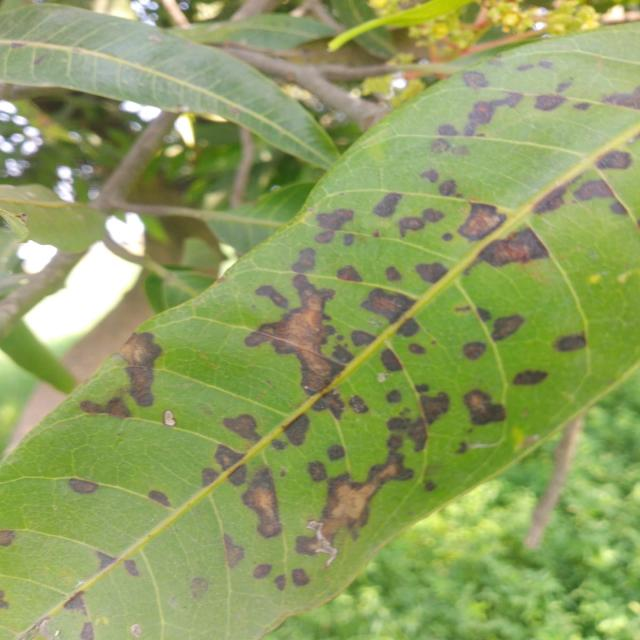Anthracnose: (278, 431, 421, 574), (243, 267, 377, 401), (298, 432, 420, 554), (454, 76, 525, 144), (473, 224, 550, 280), (235, 466, 290, 542), (115, 331, 164, 407), (454, 195, 509, 251), (360, 279, 415, 328), (462, 383, 508, 431), (221, 405, 268, 447), (530, 183, 574, 221), (485, 306, 527, 345), (312, 383, 350, 420), (79, 396, 131, 423), (371, 188, 408, 224), (254, 280, 294, 311), (419, 391, 454, 426), (315, 206, 357, 234), (404, 416, 434, 454), (210, 442, 244, 475), (376, 347, 407, 378), (573, 179, 614, 202), (395, 211, 427, 239), (222, 532, 246, 569), (284, 414, 310, 446), (603, 86, 639, 109), (396, 316, 423, 343), (416, 262, 448, 284), (330, 343, 356, 368), (346, 392, 371, 418), (554, 333, 587, 352), (146, 487, 174, 509), (63, 591, 87, 616), (68, 478, 100, 496), (292, 248, 315, 273), (336, 264, 365, 283), (289, 565, 311, 589), (535, 94, 566, 111), (513, 370, 548, 385), (189, 577, 211, 600), (96, 548, 118, 570), (420, 206, 445, 225), (608, 200, 630, 221), (325, 442, 347, 463), (420, 165, 442, 185), (474, 303, 494, 324), (463, 72, 489, 88), (463, 342, 486, 360), (308, 462, 327, 483), (351, 330, 375, 346), (407, 340, 427, 359), (272, 572, 291, 592), (554, 78, 576, 95), (430, 137, 451, 154), (487, 54, 506, 72), (202, 468, 219, 486), (124, 559, 140, 577), (455, 439, 471, 457), (387, 434, 403, 452), (439, 180, 457, 196), (253, 564, 272, 579), (163, 409, 178, 428), (537, 57, 555, 72), (438, 124, 460, 136), (0, 530, 15, 547), (573, 100, 592, 113), (315, 230, 334, 243), (80, 622, 94, 639), (386, 267, 402, 281), (517, 61, 534, 74), (270, 439, 288, 451), (451, 145, 469, 156), (386, 390, 401, 403), (32, 53, 47, 66), (0, 590, 10, 609), (343, 233, 355, 247), (130, 623, 141, 638), (424, 480, 436, 491), (10, 42, 26, 50), (416, 384, 429, 392), (442, 233, 453, 241)
